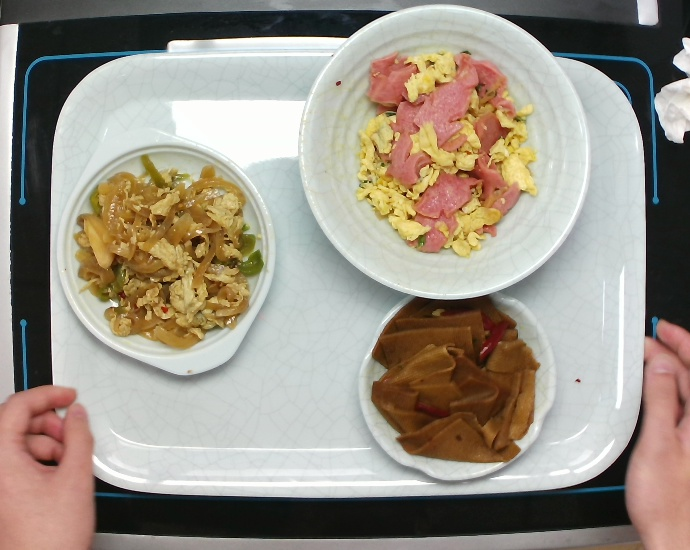JYsf-Ao_Yuan_Wan: (355, 288, 560, 483)
JYsf-Shuang_Er_Pan: (54, 122, 278, 379)
JYsf-Xiao_Tang_Wan: (295, 2, 594, 300)
